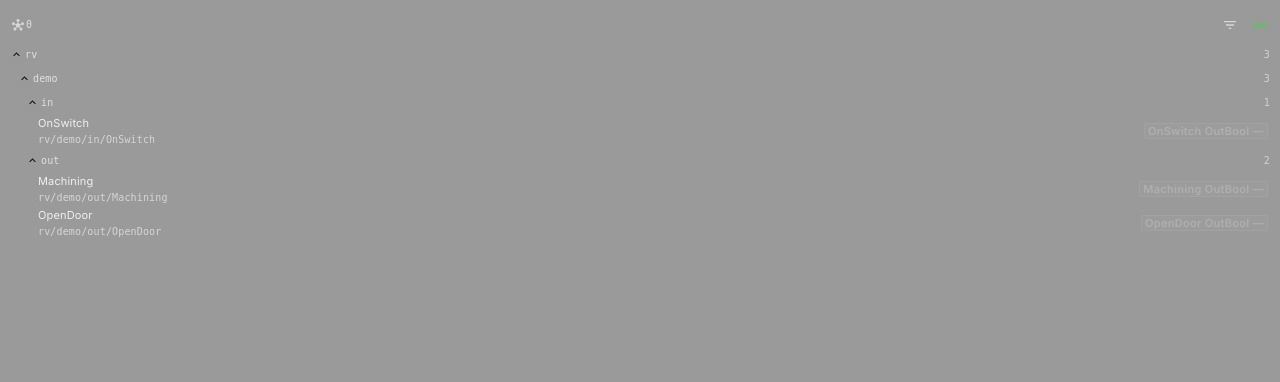
it: SignalListView MQTT topic tree › filter_prunesEmptyBranches
Expected: the text "OpenDoor" is shown, [38,208,92,222]
Click the button named "Filter signals". click: (1230, 25)
box: [1217,12,1243,38]
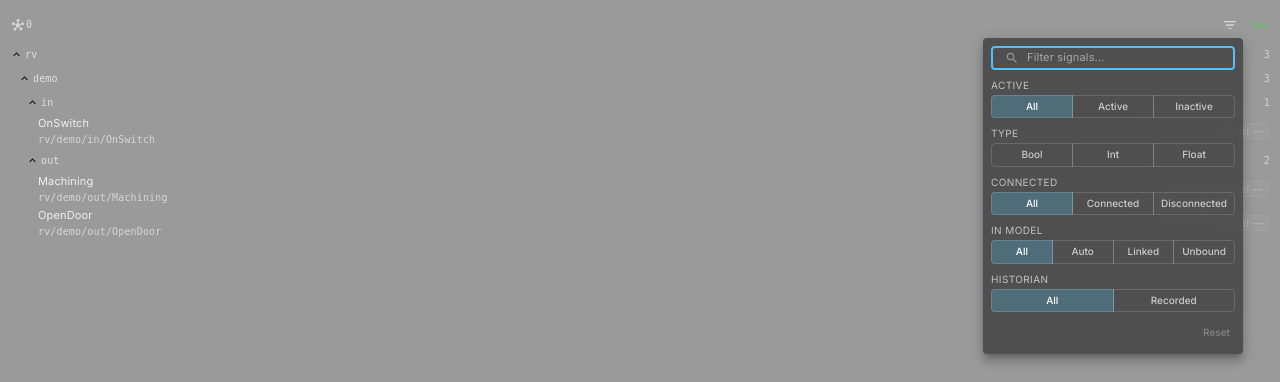
Type "OnSwitch" into the field with placeholder "Filter signals...". click: (1131, 58)
box: [1027,46,1235,70]
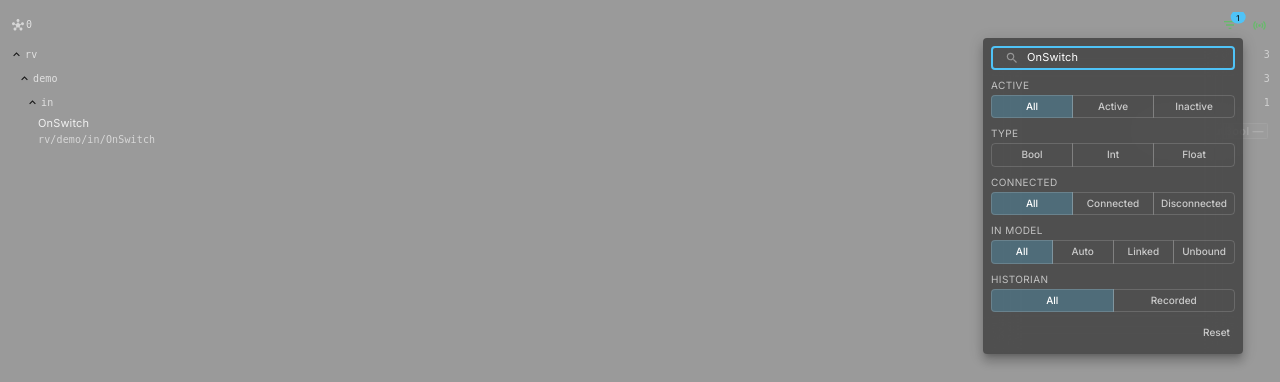
Expected: the text "OnSwitch" is shown, [38,116,89,130]
Now the text "OpenDoor" is gone
